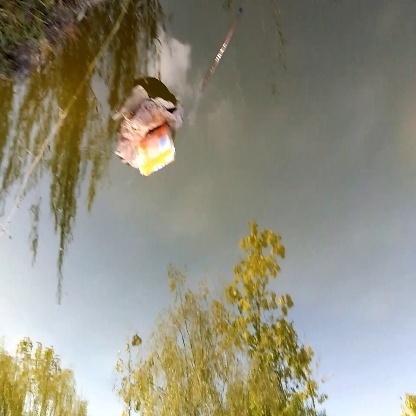bottle: (133, 118, 179, 178)
